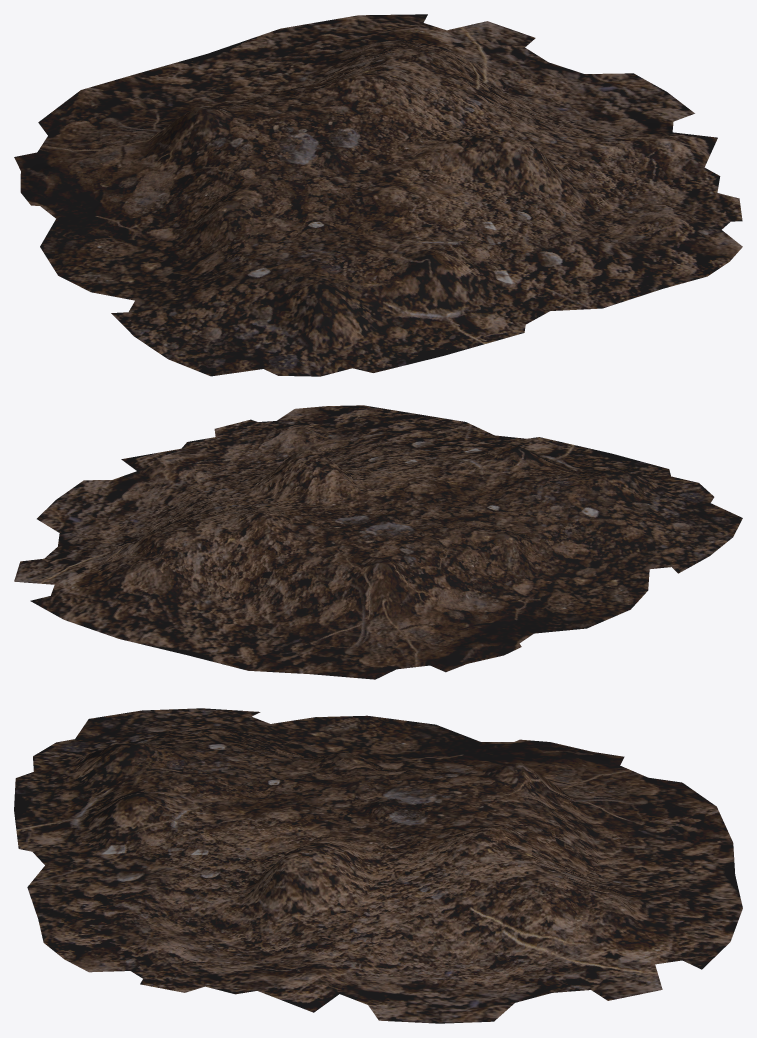
Rendered from Earth_small_sm.FBX.
3 views of the same model, one above another, from view 1: azimuth 30°, elevation 25°; view 2: azimuth 150°, elevation 25°; view 3: azimuth 270°, elevation 25° (orthographic). The views are drawn at different scales.
Parts seen in each view (by area): view 1: Earth_small_sm; view 2: Earth_small_sm; view 3: Earth_small_sm.
Part boxes in pixels (x1,y1,x2,y2): Earth_small_sm: (14, 14, 742, 376); Earth_small_sm: (14, 405, 742, 679); Earth_small_sm: (14, 708, 742, 1023).
Size of what is drawn, in the model's own units: 291 by 288 by 27.47.
